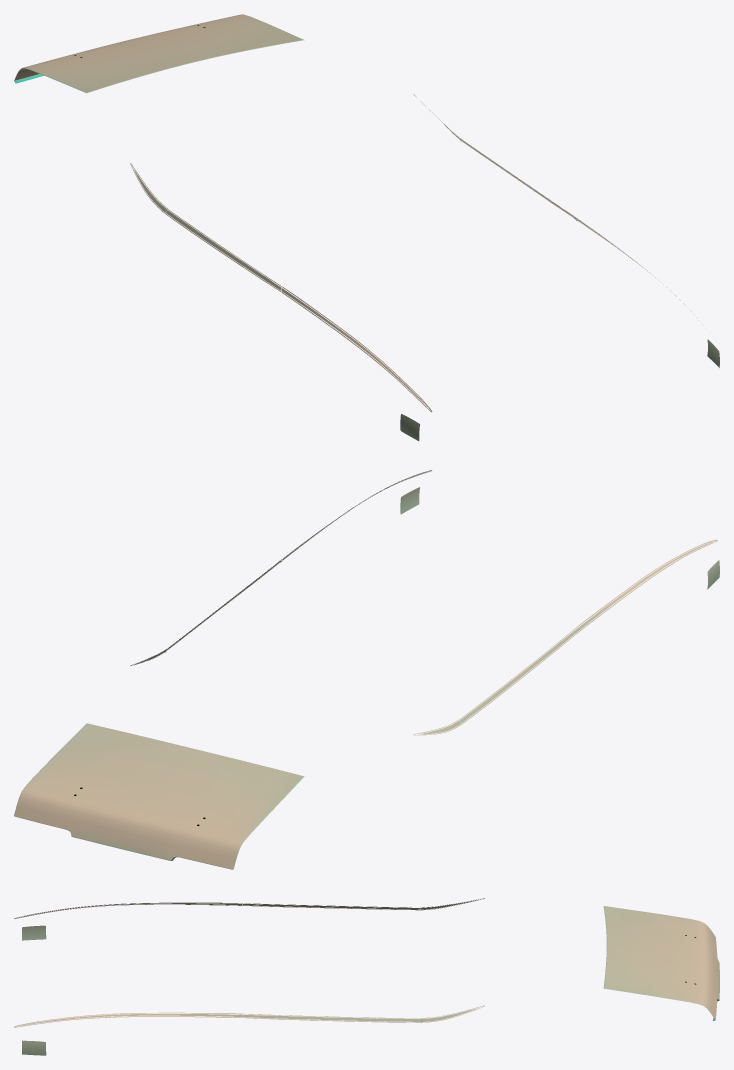
The model's file is Pontiac_GTOTheJudgeClassic_1969_Body2a_lodB.fbx.
The picture shows the model from 3 angles, top to bottom: view 1: azimuth 30°, elevation 25°; view 2: azimuth 150°, elevation 25°; view 3: azimuth 270°, elevation 25°; orthographic projection. The views are drawn at different scales.
Parts seen in each view (by area): view 1: Body2a_Paint_Geo_lodB; view 2: Body2a_Paint_Geo_lodB; view 3: Body2a_Paint_Geo_lodB.
Part boxes in pixels (<box>): Body2a_Paint_Geo_lodB: <box>14,14,719,440</box>; Body2a_Paint_Geo_lodB: <box>14,470,719,869</box>; Body2a_Paint_Geo_lodB: <box>14,898,719,1055</box>.
Bounding box in the file's own units: 1.88 × 0.3945 × 4.8.
